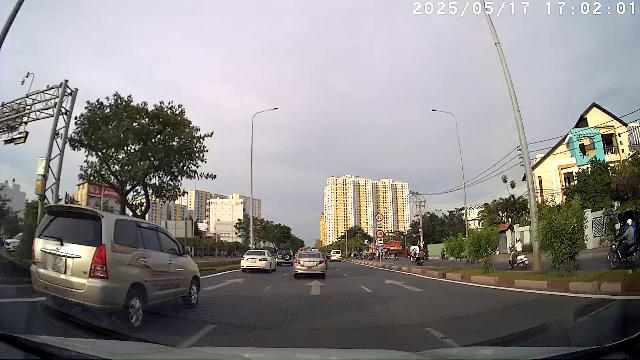127-toc-do-toi-da-60: (376, 230, 384, 238)
127-toc-do-toi-da-80: (375, 213, 383, 221)
